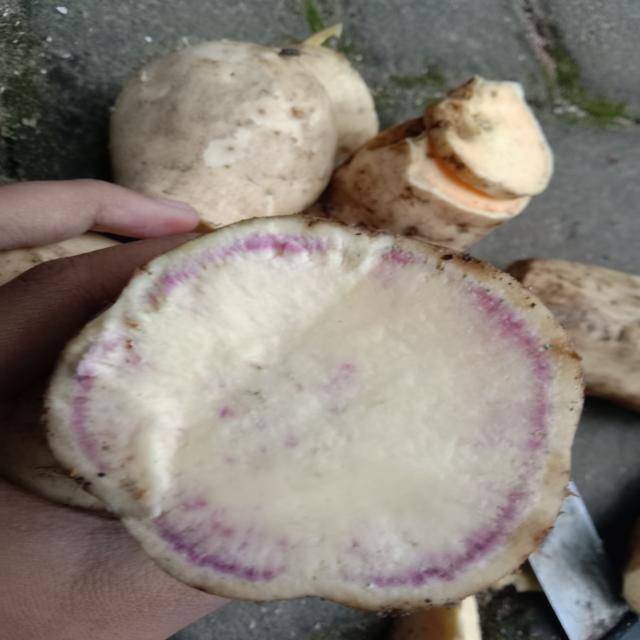Healthy Sweet Potato: (47, 216, 583, 611)
